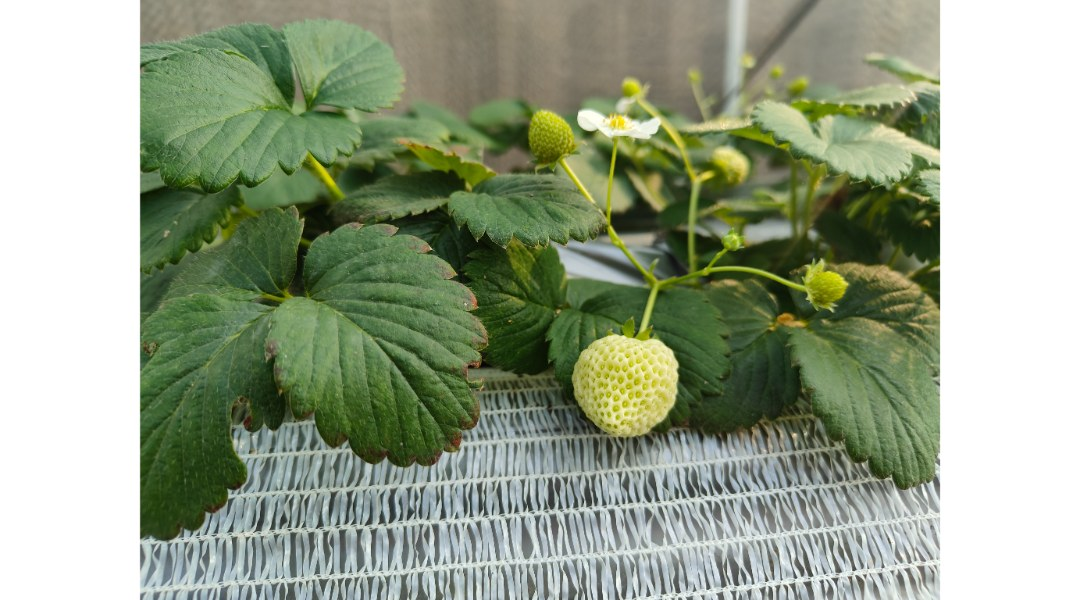berry: (568, 312, 698, 444), (799, 260, 854, 317), (522, 108, 575, 164), (706, 128, 749, 195), (617, 74, 652, 104)
flower: (576, 98, 660, 145)
strain: (556, 158, 655, 281), (674, 183, 710, 271), (723, 262, 808, 298), (606, 136, 619, 225), (640, 294, 659, 335)
